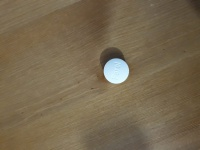Parol: (102, 57, 130, 85)
